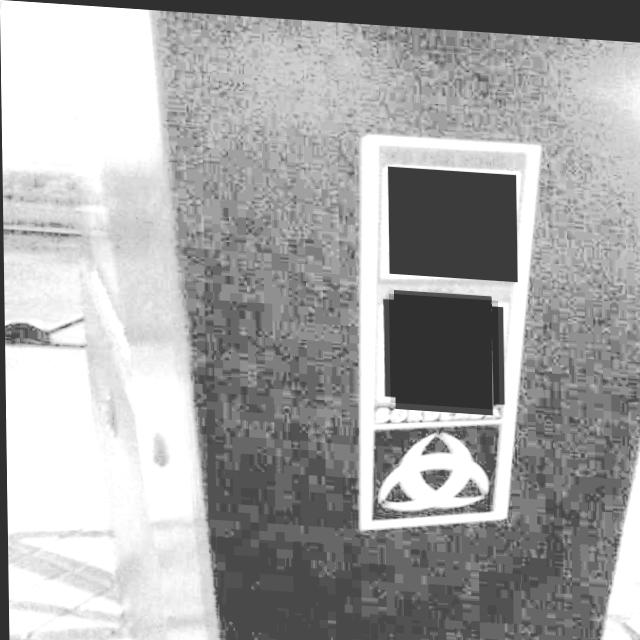qr_code: (388, 161, 517, 275), (388, 288, 498, 403)
